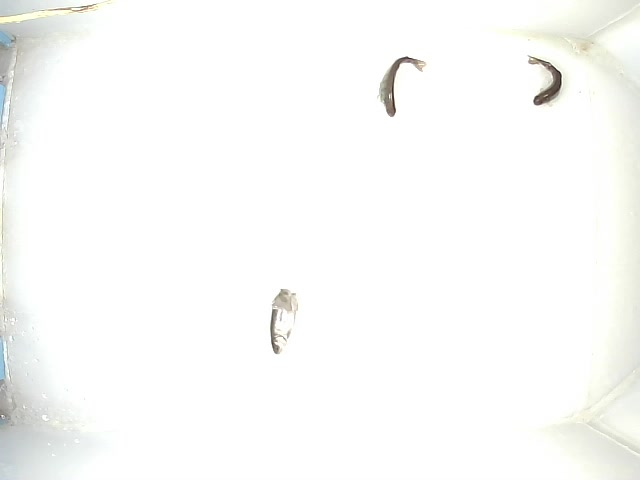fish: (376, 55, 427, 117), (265, 287, 301, 355), (525, 53, 564, 107)
